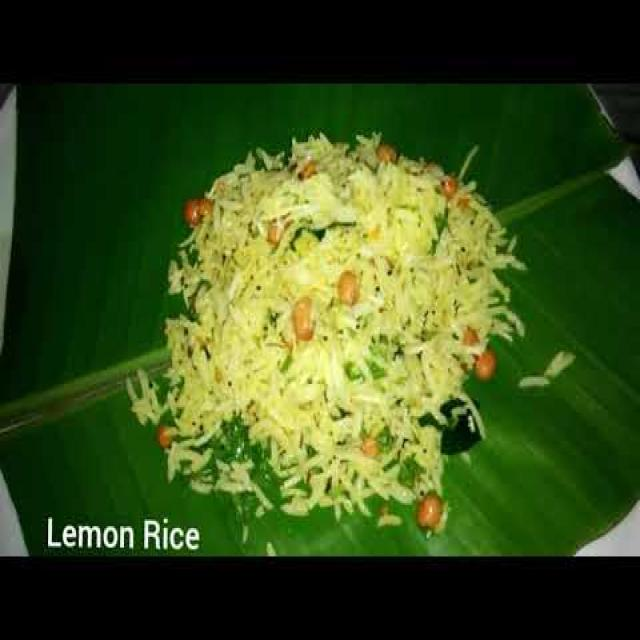lemon rice: (117, 109, 583, 552)
